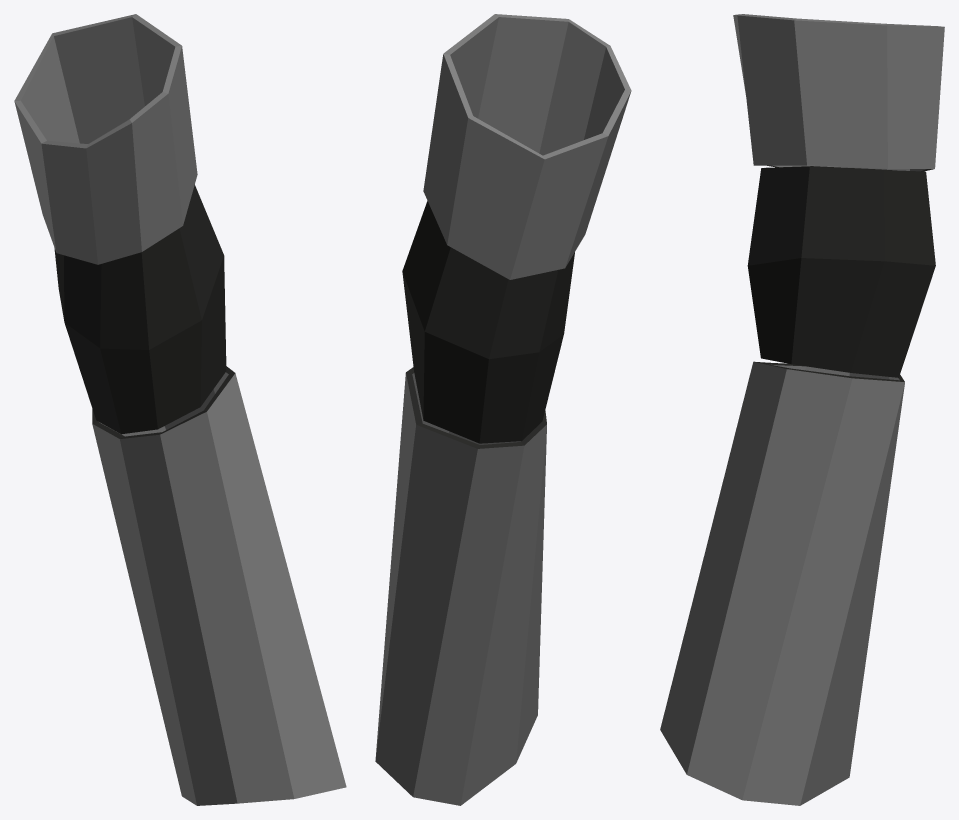
The model's file is VambraceLeft_01.fbx.
The picture shows the model from 3 angles, left to right: view 1: azimuth 30°, elevation 25°; view 2: azimuth 150°, elevation 25°; view 3: azimuth 270°, elevation 25°; orthographic projection. The views are drawn at different scales.
Parts seen in each view (by area): view 1: VambraceLeft_01; view 2: VambraceLeft_01; view 3: VambraceLeft_01.
Part boxes in pixels (box(x1,y1,x2,y2)): VambraceLeft_01: box(14, 14, 346, 805); VambraceLeft_01: box(375, 14, 631, 805); VambraceLeft_01: box(660, 14, 944, 805).
Bounding box in the file's own units: 12.78 × 37.28 × 12.98.
